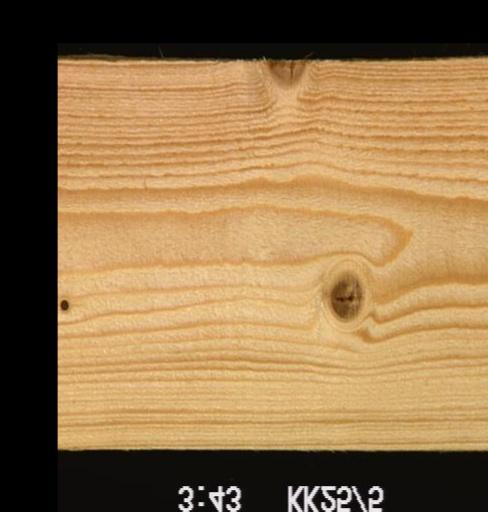dry_knot: (57, 297, 69, 313)
edge_knot: (255, 55, 310, 93)
sound_knot: (325, 271, 366, 325)
